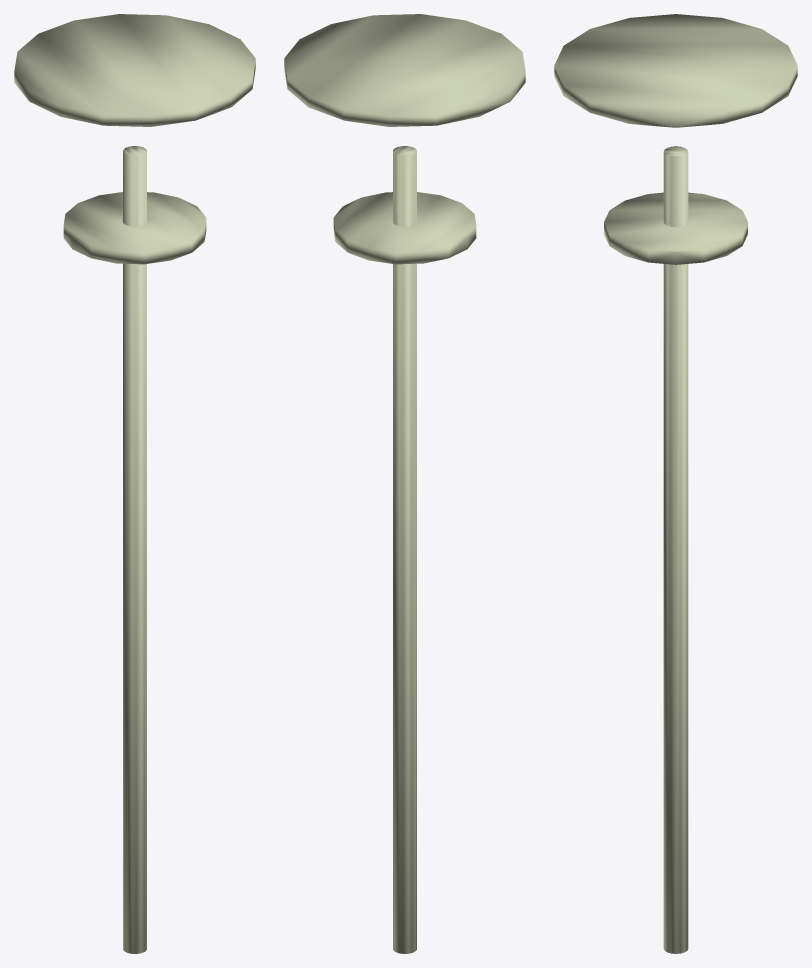
File: latern.obj
3 views of the same model, side by side, from view 1: azimuth 30°, elevation 25°; view 2: azimuth 150°, elevation 25°; view 3: azimuth 270°, elevation 25° (orthographic).
Visible parts, largest first — view 1: Cylinder4, Cylinder1, Cylinder4_copy5; view 2: Cylinder4, Cylinder1, Cylinder4_copy5; view 3: Cylinder4, Cylinder1, Cylinder4_copy5.
Boxes of the visible parts, x1,y1,x2,y2 form: Cylinder4: (14,14,255,126); Cylinder1: (123,146,146,953); Cylinder4_copy5: (63,192,206,264); Cylinder4: (284,14,525,126); Cylinder1: (393,146,416,953); Cylinder4_copy5: (333,192,476,264); Cylinder4: (554,14,797,127); Cylinder1: (663,146,688,953); Cylinder4_copy5: (604,192,747,264).
Size of the model in its own units: 2 by 8.01 by 2.
